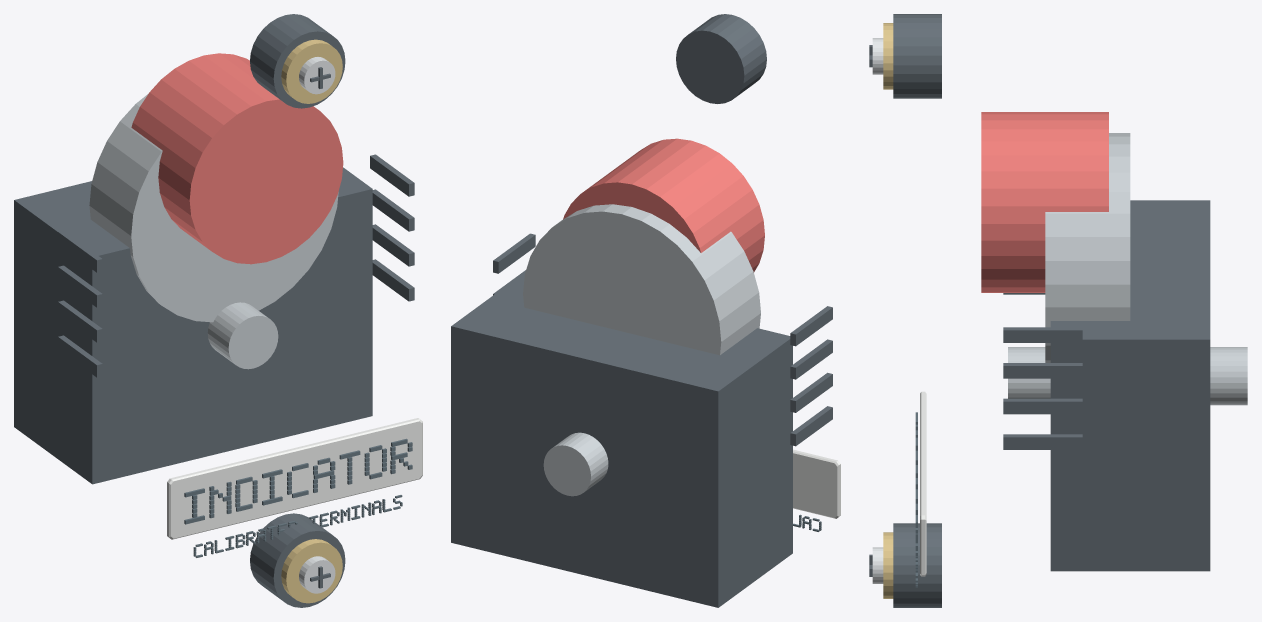
Rendered from indicator.glb.
3 views of the same model, side by side, from view 1: azimuth 30°, elevation 25°; view 2: azimuth 150°, elevation 25°; view 3: azimuth 270°, elevation 25° (orthographic). The views are drawn at different scales.
Parts seen in each view (by area): view 1: indicator-detailed; view 2: indicator-detailed; view 3: indicator-detailed.
Part boxes in pixels (left/top/right/bottom): indicator-detailed: left=14, top=14, right=422, bottom=607; indicator-detailed: left=451, top=14, right=840, bottom=607; indicator-detailed: left=869, top=14, right=1247, bottom=607.
Bounding box in the file's own units: 1.39 × 2.4 × 1.4.
